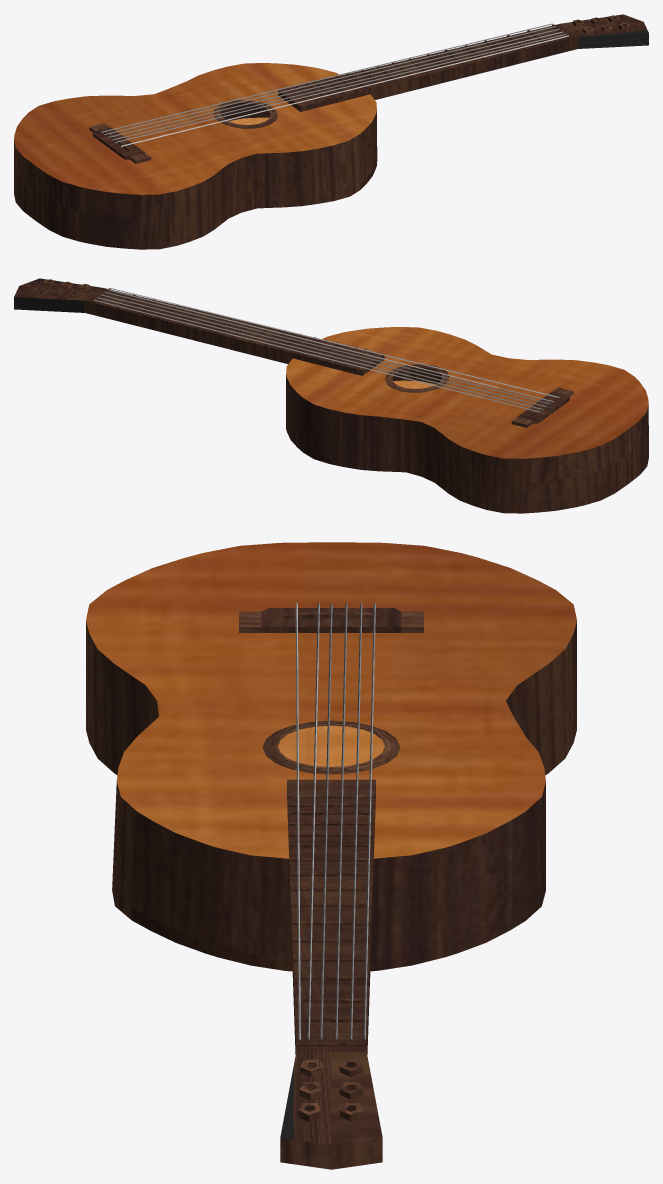
The model's file is guitar2unity.fbx.
The picture shows the model from 3 angles, top to bottom: view 1: azimuth 30°, elevation 25°; view 2: azimuth 150°, elevation 25°; view 3: azimuth 270°, elevation 25°; orthographic projection. The views are drawn at different scales.
Parts seen in each view (by area): view 1: polySurface63; view 2: polySurface63; view 3: polySurface63.
Boxes of the visible parts, left/top/right/bottom form: polySurface63: left=14, top=14, right=648, bottom=249; polySurface63: left=14, top=278, right=648, bottom=513; polySurface63: left=86, top=542, right=576, bottom=1169.
Size of the model in its own units: 32.68 by 3.22 by 11.42.
